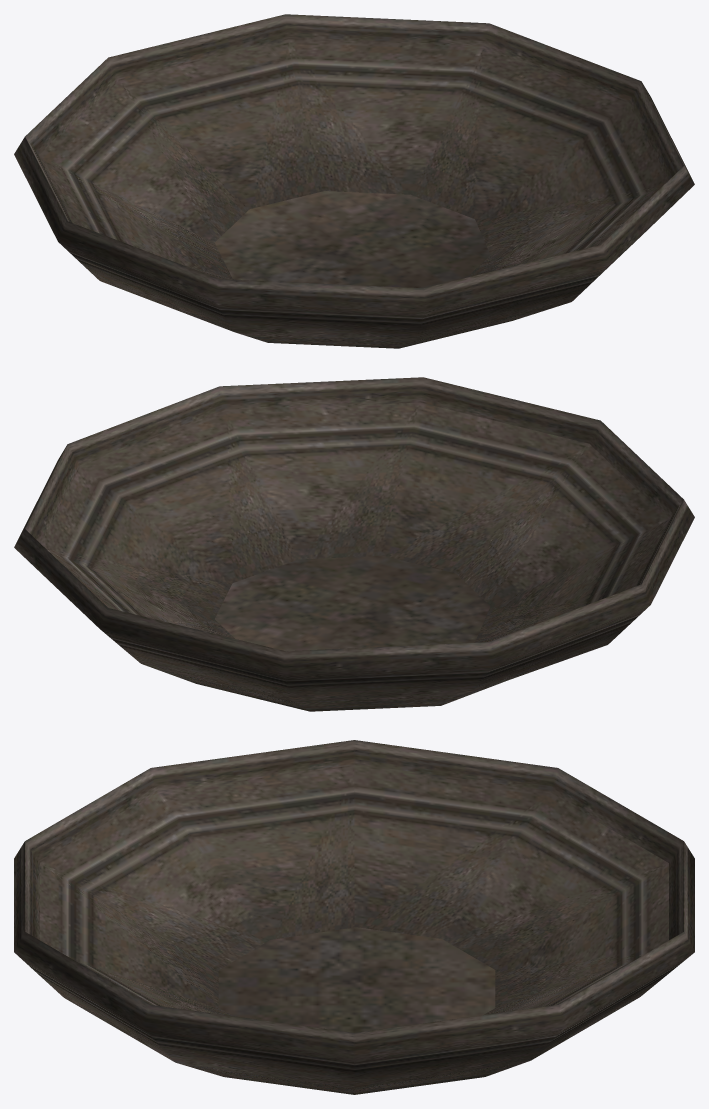
The model's file is edb_con_tato_bowl_empty_s02_l0.fbx.
3 renders of one model, top to bottom at view 1: azimuth 30°, elevation 25°; view 2: azimuth 150°, elevation 25°; view 3: azimuth 270°, elevation 25°, orthographic. The views are drawn at different scales.
Parts seen in each view (by area): view 1: mesh_node; view 2: mesh_node; view 3: mesh_node.
Boxes of the visible parts, left/top/right/bottom form: mesh_node: left=14, top=14, right=694, bottom=348; mesh_node: left=14, top=377, right=694, bottom=711; mesh_node: left=14, top=740, right=694, bottom=1094.
Size of the model in its own units: 1.36 by 0.2396 by 1.29.
